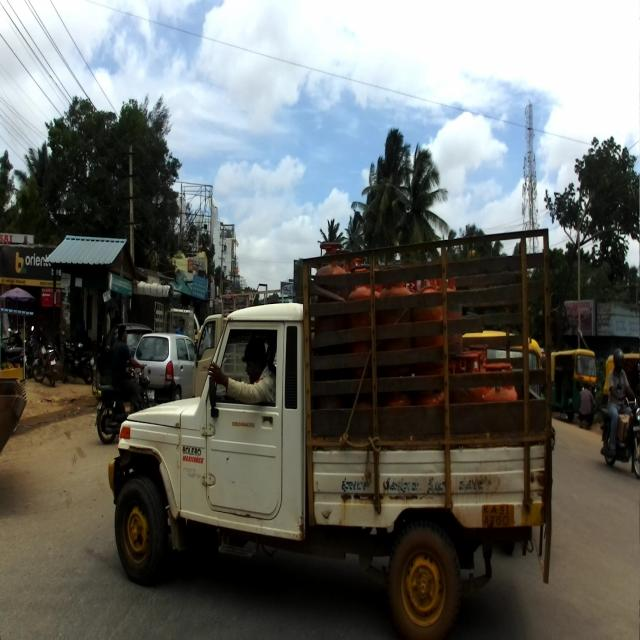autorickshaw: (548, 346, 598, 423)
car: (132, 332, 196, 400)
motorcycle: (599, 382, 639, 478)
truck: (109, 225, 556, 637)
